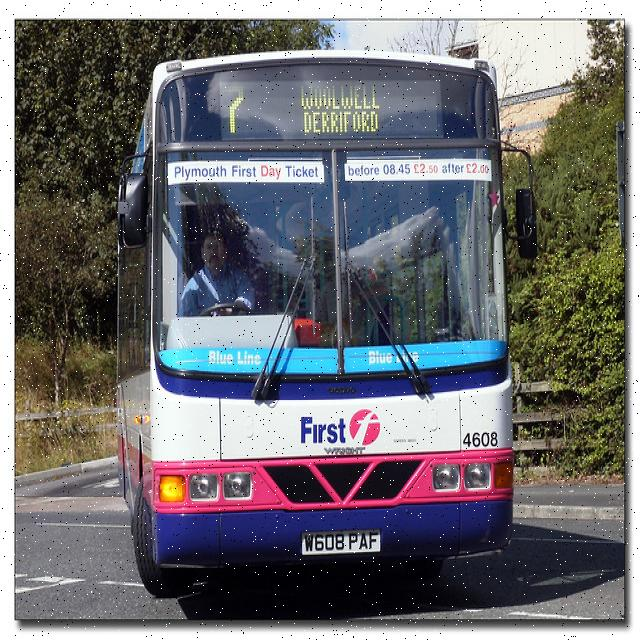Bus: (121, 50, 532, 581), (181, 226, 253, 316)
